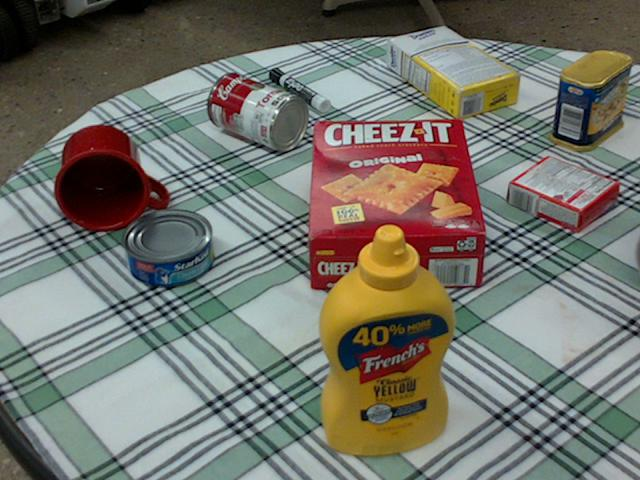cracker_box: (307, 118, 486, 286)
gelatin_box: (506, 155, 616, 229)
large_marker: (268, 67, 328, 110)
master_chef_can: (638, 244, 639, 264)
mug: (54, 124, 166, 230)
mustard_bottle: (320, 223, 457, 454)
potted_meat_can: (547, 50, 629, 151)
sugar_box: (387, 26, 522, 118)
tomato_soup_can: (206, 71, 308, 149)
tuna_fish_can: (119, 208, 212, 286)
